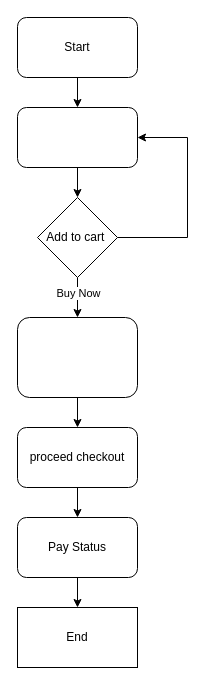
Some shapes in this 213 by 685 pixel diagram are drawn without their labels. The box of each missing label's shape, as (x1, y1, x2, y2) in pixels:
Enter Shipping Details, method payment, amount order and assurance (option): (16, 316, 138, 398)
Select Product: (16, 106, 138, 168)
